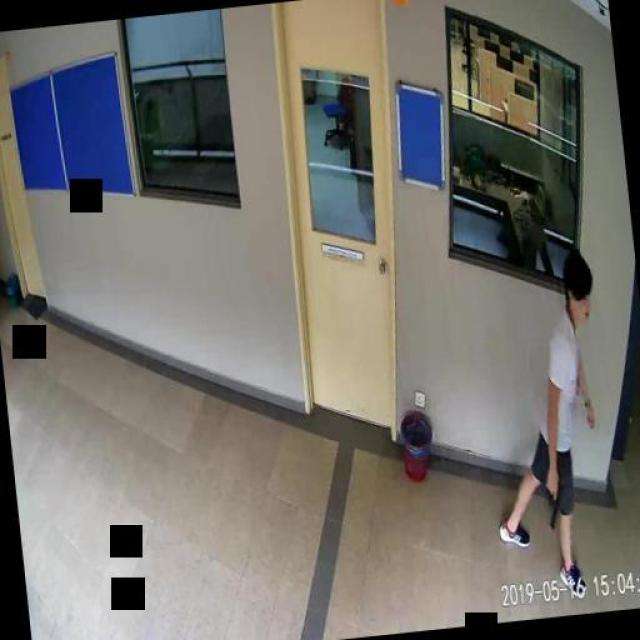gun: (544, 472, 565, 528)
